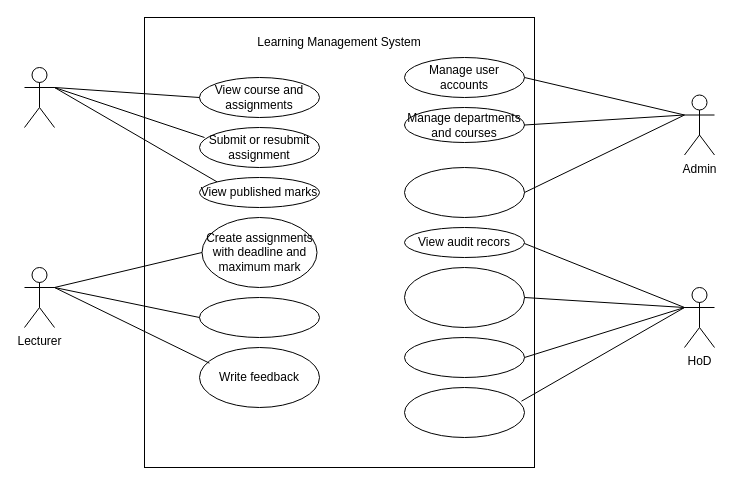
The diagram is 733 pixels wide and 485 high, and some of its shapes have lost their labels. Each missing label, with the centre of its shape:
Approve or return marks: the point at 464,357
Assign lecturers and enroll students: the point at 464,192
Grant deadline extension: the point at 259,317
Release approved marks: the point at 464,412
Review marks in own department: the point at 464,297
Student: the point at 39,97
